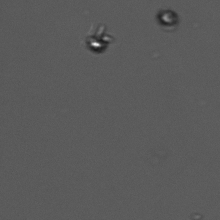Dead Cell: (152, 4, 184, 30)
Living Cell: (82, 26, 113, 55)
